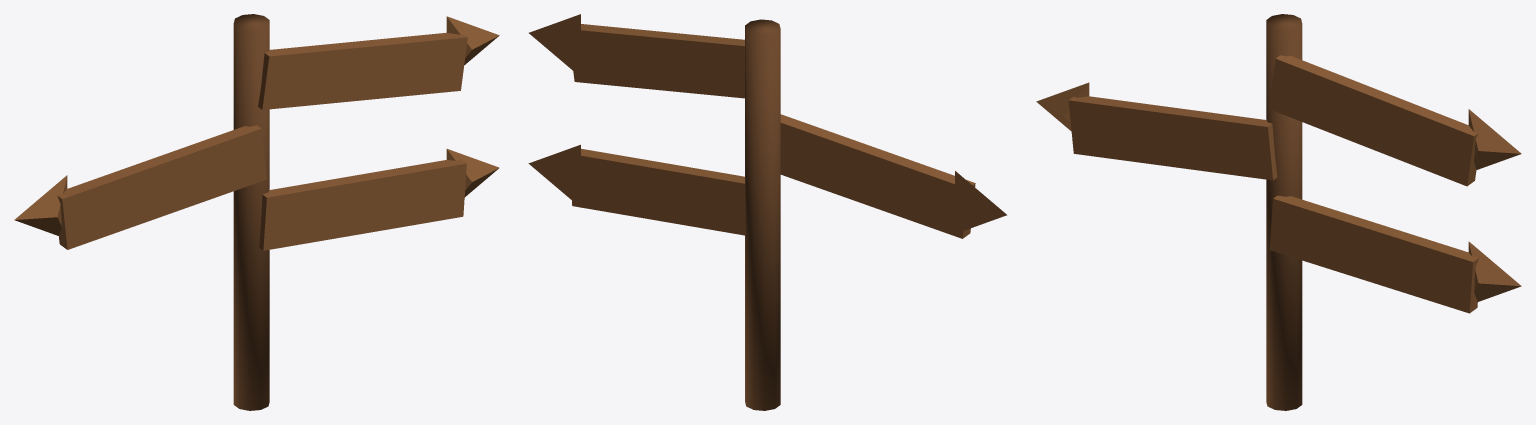
The model's file is P_Signpost.fbx.
The picture shows the model from 3 angles, left to right: view 1: azimuth 30°, elevation 25°; view 2: azimuth 150°, elevation 25°; view 3: azimuth 330°, elevation 25°; orthographic projection.
Parts seen in each view (by area): view 1: P_Signpost__Board, P_Signpost__Wood; view 2: P_Signpost__Board, P_Signpost__Wood; view 3: P_Signpost__Board, P_Signpost__Wood.
Part boxes in pixels (x1,y1,x2,y2): P_Signpost__Board: (14, 16, 499, 250); P_Signpost__Wood: (233, 14, 269, 410); P_Signpost__Board: (528, 14, 1006, 238); P_Signpost__Wood: (745, 19, 780, 410); P_Signpost__Board: (1036, 55, 1521, 313); P_Signpost__Wood: (1266, 14, 1302, 410).
Bounding box in the file's own units: 10.66 × 8 × 0.85.
